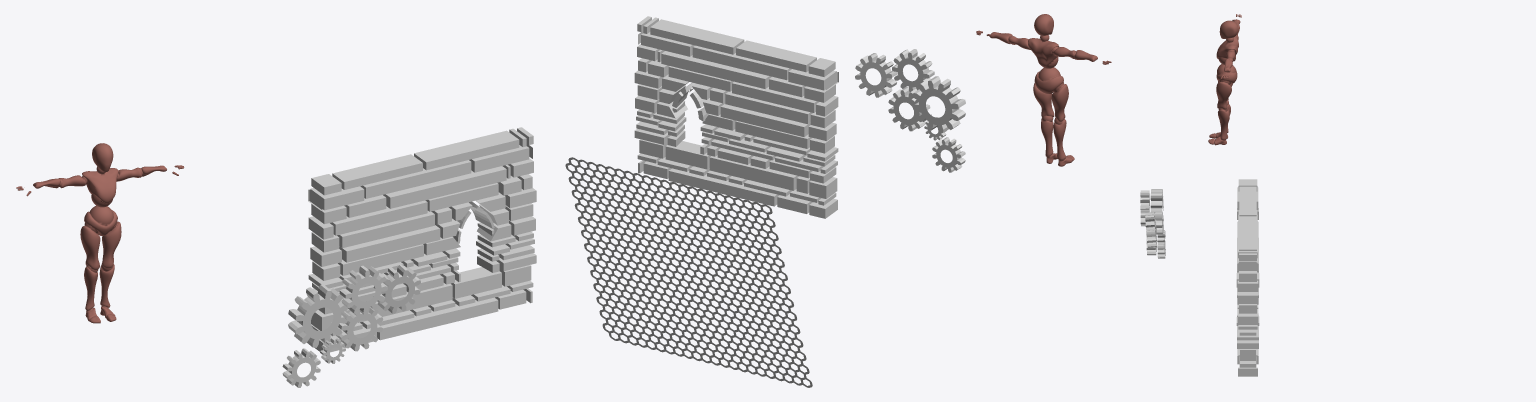
Rendered from particle1.glb.
3 views of the same model, side by side, from view 1: azimuth 30°, elevation 25°; view 2: azimuth 150°, elevation 25°; view 3: azimuth 270°, elevation 25° (orthographic). The views are drawn at different scales.
Parts seen in each view (by area): view 1: Wall, Worm Gear, people; view 2: Wall, HoneyComb, Worm Gear, people; view 3: Wall, people, Worm Gear.
Part boxes in pixels (x1,y1,x2,y2): Wall: (308,127,536,352); Worm Gear: (282,264,420,387); people: (16,143,184,323); Wall: (634,16,838,218); HoneyComb: (565,157,812,387); Worm Gear: (855,49,965,172); people: (976,14,1111,166); Wall: (1236,179,1259,376); people: (1208,14,1241,145); Worm Gear: (1140,189,1165,258).
Size of the model in its own units: 49.21 by 30.37 by 42.38.
